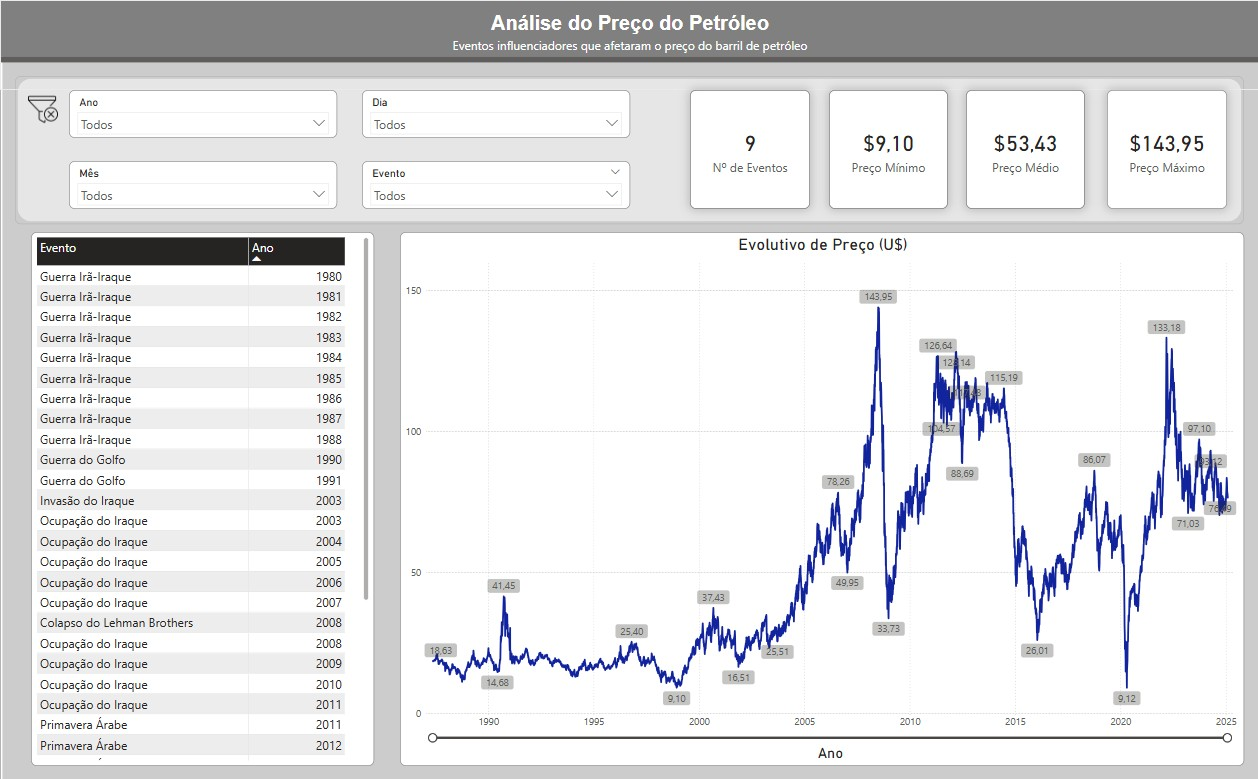

The dashboard page shown, as its layout file describes it:
{"tool":"powerbi","page":{"name":"Evolutivo de Preços","canvas":[2100,1300],"ordinal":0},"visuals":[{"type":"shape","box":[0,0,2500,1500],"z":0},{"type":"shape","box":[25,126.7,2048.3,246.7],"z":1000},{"type":"shape","title":"Análise do Preço do Petróleo","box":[0,0,2100,150],"z":2000},{"type":"card","fields":{"Values":["Min(preco_petroleo_brent.preco_petroleo_bruto_Brent_FOB)"]},"box":[1381.7,150,198.3,198.3],"z":3000},{"type":"card","fields":{"Values":["Avg(preco_petroleo_brent.preco_petroleo_bruto_Brent_FOB)"]},"box":[1610,150,198.3,198.3],"z":4000},{"type":"card","fields":{"Values":["Max(preco_petroleo_brent.preco_petroleo_bruto_Brent_FOB)"]},"box":[1845,150,200,198.3],"z":5000},{"type":"slicer","fields":{"Values":["preco_petroleo_brent.data.Variation.Hierarquia de datas.Ano"]},"box":[115,150,446.7,80],"z":6000},{"type":"slicer","fields":{"Values":["preco_petroleo_brent.data.Variation.Hierarquia de datas.Mês"]},"box":[115,268.3,446.7,80],"z":7000},{"type":"slicer","fields":{"Values":["preco_petroleo_brent.data.Variation.Hierarquia de datas.Dia"]},"box":[603.3,150,446.7,80],"z":8000},{"type":"slicer","fields":{"Values":["Planilha1.evento"]},"box":[603.3,268.3,446.7,80],"z":9000},{"type":"lineChart","title":"Evolutivo de Preço (U$)","fields":{"Y":["Avg(preco_petroleo_brent.preco_petroleo_bruto_Brent_FOB)"],"Category":["preco_petroleo_brent.data.Variation.Hierarquia de datas.Ano","preco_petroleo_brent.data.Variation.Hierarquia de datas.Mês","preco_petroleo_brent.data.Variation.Hierarquia de datas.Dia"]},"box":[666.7,386.7,1406.7,890],"z":10000},{"type":"card","fields":{"Values":["Count(Planilha1.evento)"]},"box":[1150,150,200,198.3],"z":11000},{"type":"tableEx","fields":{"Values":["Planilha1.evento","Planilha1.ano_dur"]},"box":[51.7,386.7,571.7,890],"z":12000},{"type":"image","box":[41.7,148.3,60,68.3],"z":13000}]}

Visuals, with their boxes in screenshot pixels (x1, y1, x2, y2), scaled from the page's 2100x1300 canvas onto the 1258x779 screenshot:
shape: (0,0,1257,778)
shape: (15,76,1242,224)
"Análise do Preço do Petróleo" shape: (0,0,1257,90)
card - Min(preco_petroleo_brent.preco_petroleo_bruto_Brent_FOB): (828,90,946,209)
card - Avg(preco_petroleo_brent.preco_petroleo_bruto_Brent_FOB): (964,90,1083,209)
card - Max(preco_petroleo_brent.preco_petroleo_bruto_Brent_FOB): (1105,90,1225,209)
slicer - preco_petroleo_brent.data.Variation.Hierarquia de datas.Ano: (69,90,336,138)
slicer - preco_petroleo_brent.data.Variation.Hierarquia de datas.Mês: (69,161,336,209)
slicer - preco_petroleo_brent.data.Variation.Hierarquia de datas.Dia: (361,90,629,138)
slicer - Planilha1.evento: (361,161,629,209)
"Evolutivo de Preço (U$)" lineChart: (399,232,1242,765)
card - Count(Planilha1.evento): (689,90,809,209)
tableEx - Planilha1.evento x Planilha1.ano_dur: (31,232,373,765)
image: (25,89,61,130)
